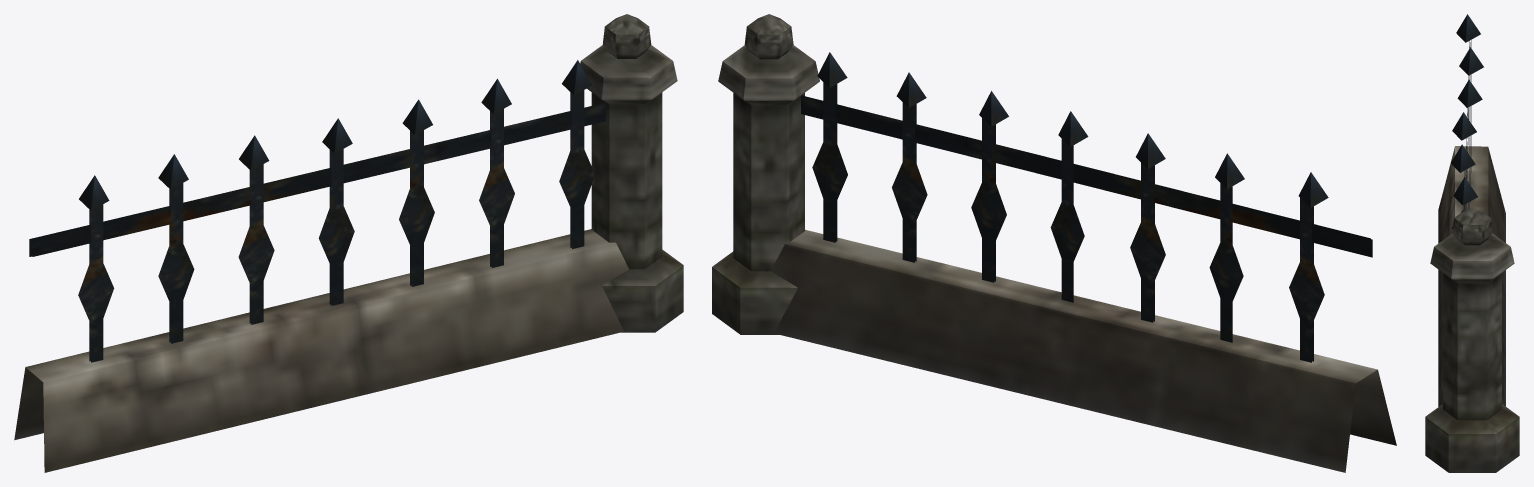
File: SM_EN_2005_langan01.FBX
3 renders of one model, left to right at view 1: azimuth 30°, elevation 25°; view 2: azimuth 150°, elevation 25°; view 3: azimuth 270°, elevation 25°, orthographic. The views are drawn at different scales.
Visible parts, largest first — view 1: SM_EN_2005_langan01; view 2: SM_EN_2005_langan01; view 3: SM_EN_2005_langan01.
Boxes of the visible parts, x1=… form: SM_EN_2005_langan01: x1=14, y1=14, x2=683, y2=472; SM_EN_2005_langan01: x1=712, y1=14, x2=1396, y2=472; SM_EN_2005_langan01: x1=1425, y1=14, x2=1519, y2=472.
Bounding box in the file's own units: 33.56 × 14.8 × 5.11.
